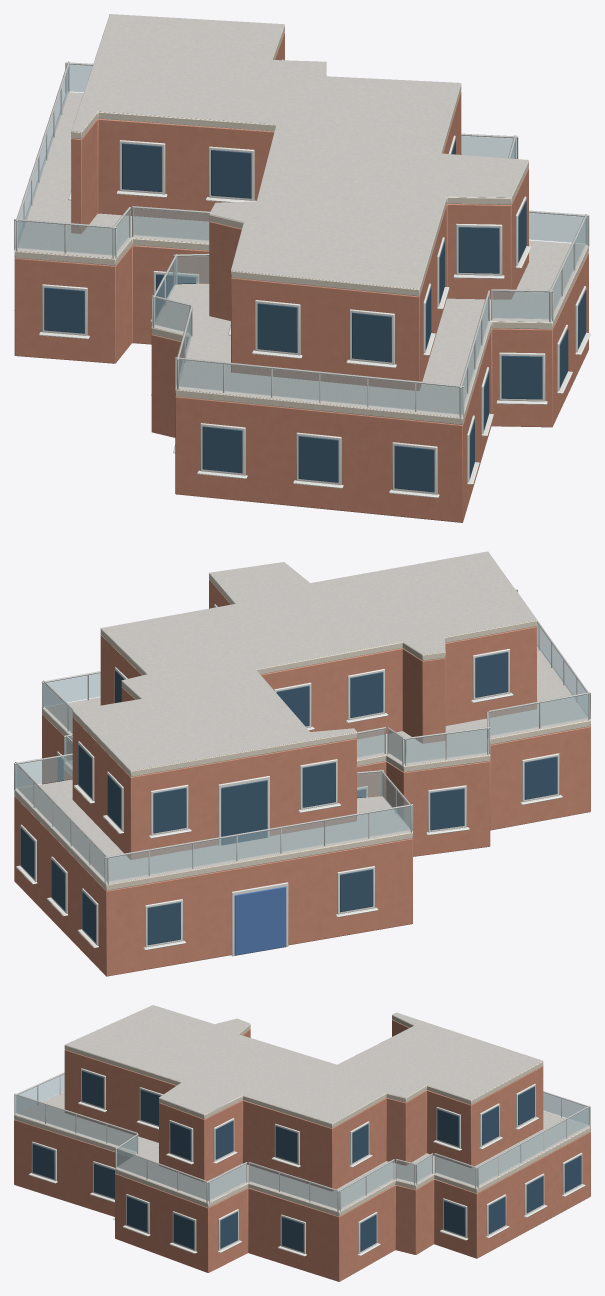
The model's file is Centre_de_controle.glb.
The picture shows the model from 3 angles, top to bottom: view 1: azimuth 30°, elevation 25°; view 2: azimuth 150°, elevation 25°; view 3: azimuth 270°, elevation 25°; orthographic projection. The views are drawn at different scales.
Parts seen in each view (by area): view 1: CC_Etancheite_toit, CC_Murs, CC_Balcon_verre, CC_Vitres, CC_Cadres, CC_Bandeaux, CC_Balcon_inox; view 2: CC_Murs, CC_Etancheite_toit, CC_Balcon_verre, CC_Vitres, CC_Bandeaux, CC_Cadres, CC_Balcon_inox, CC_Porte_entree; view 3: CC_Murs, CC_Etancheite_toit, CC_Vitres, CC_Balcon_verre, CC_Cadres, CC_Bandeaux, CC_Balcon_inox.
Boxes of the visible parts, bbox=[...] form: CC_Etancheite_toit: bbox=[14, 14, 588, 417]; CC_Murs: bbox=[14, 32, 588, 522]; CC_Balcon_verre: bbox=[15, 64, 587, 414]; CC_Vitres: bbox=[44, 139, 586, 492]; CC_Cadres: bbox=[14, 59, 590, 498]; CC_Bandeaux: bbox=[14, 26, 588, 424]; CC_Balcon_inox: bbox=[14, 61, 589, 418]; CC_Murs: bbox=[14, 580, 590, 976]; CC_Etancheite_toit: bbox=[15, 551, 590, 884]; CC_Balcon_verre: bbox=[15, 623, 588, 881]; CC_Vitres: bbox=[20, 607, 557, 945]; CC_Bandeaux: bbox=[14, 574, 590, 890]; CC_Cadres: bbox=[16, 604, 562, 956]; CC_Balcon_inox: bbox=[14, 589, 590, 884]; CC_Porte_entree: bbox=[234, 886, 286, 955]; CC_Murs: bbox=[14, 1020, 590, 1281]; CC_Etancheite_toit: bbox=[14, 1005, 590, 1211]; CC_Vitres: bbox=[32, 1071, 581, 1252]; CC_Balcon_verre: bbox=[15, 1074, 589, 1209]; CC_Cadres: bbox=[28, 1068, 585, 1256]; CC_Bandeaux: bbox=[14, 1015, 590, 1216]; CC_Balcon_inox: bbox=[14, 1072, 590, 1211].
Size of the model in its own units: 17.64 by 7.24 by 27.25.
Materials: 8 (8 with a texture image).
